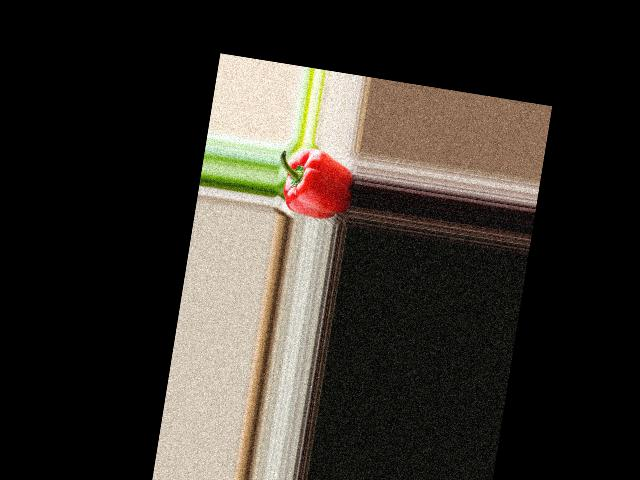bell_pepper: (273, 142, 360, 222)
